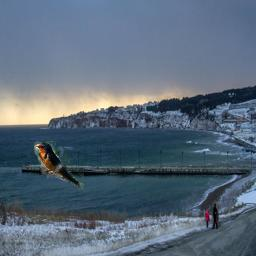Swallow: (34, 141, 84, 190)
